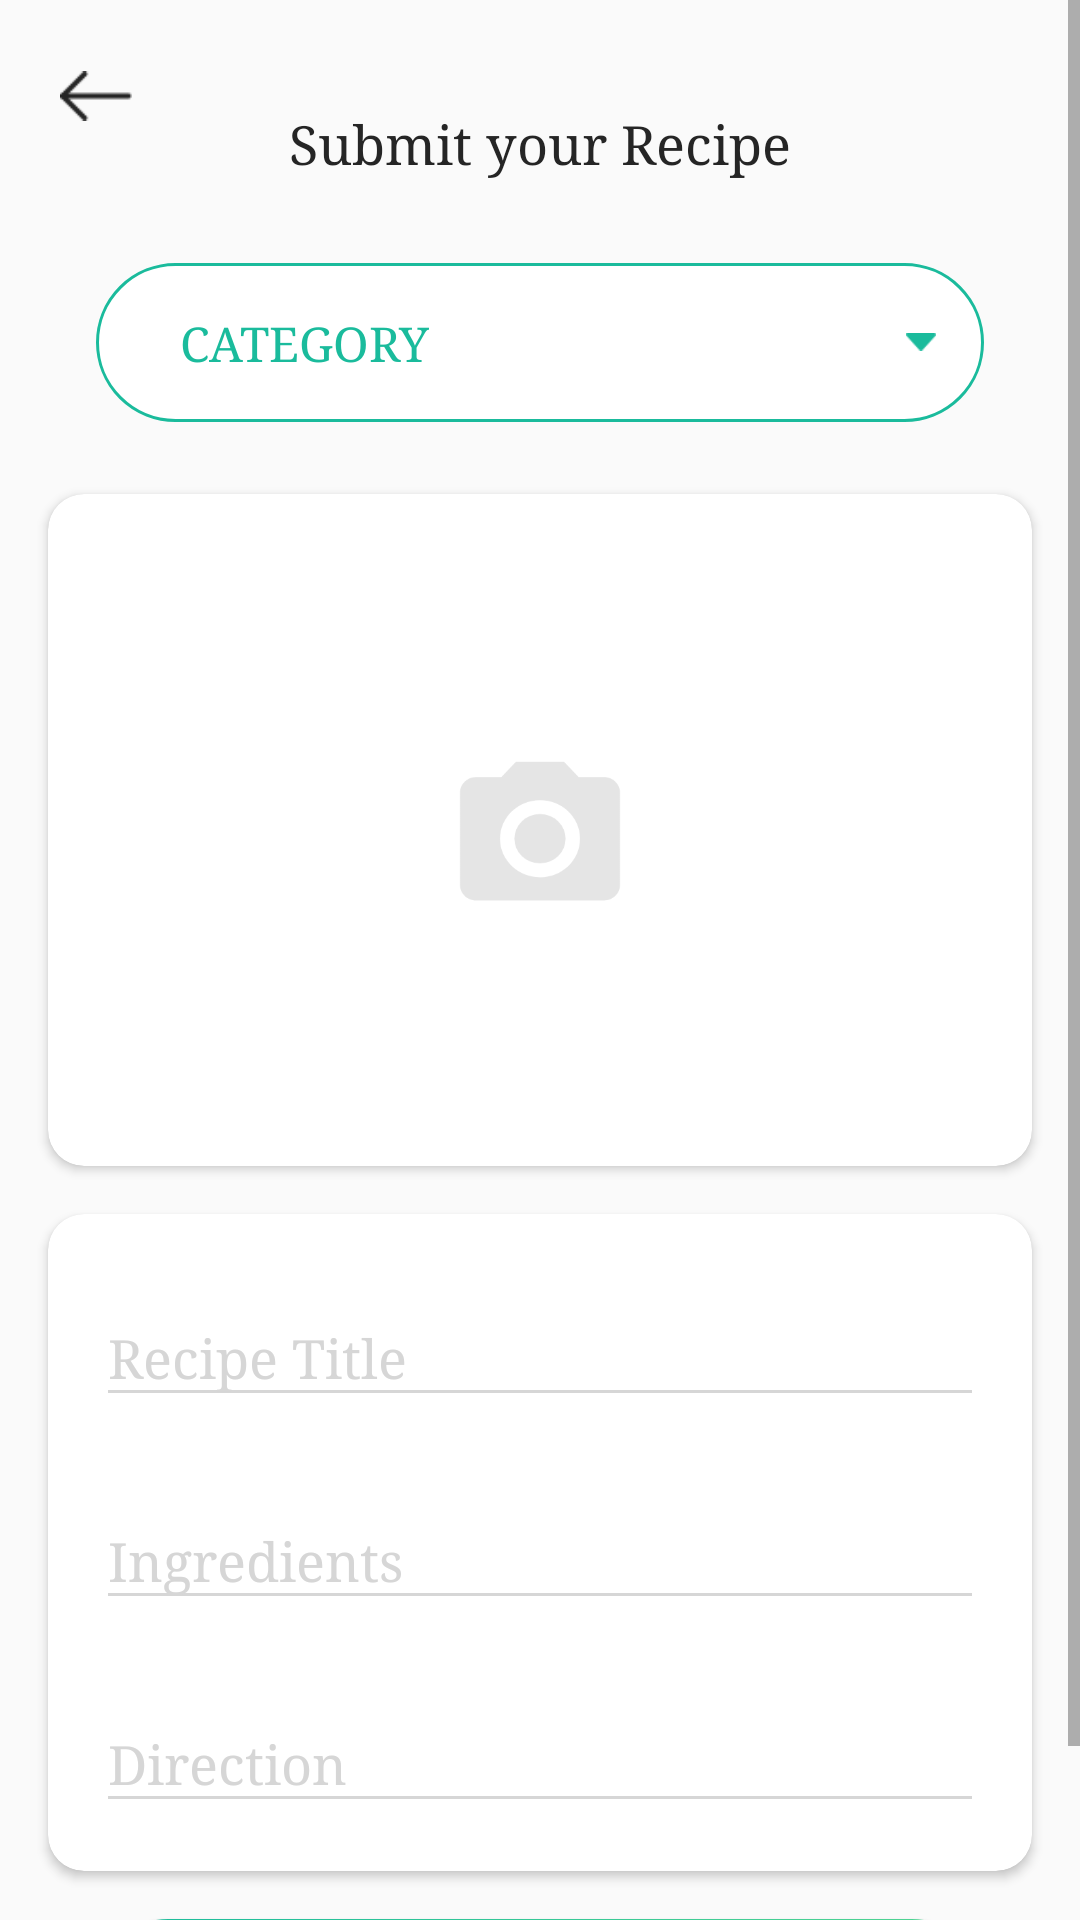

Where to tap for icons on this 1080*1920 app screen, as [x,y]:
arrow down: [921,342]
back arrow: [96,96]
upload camera: [540,831]
